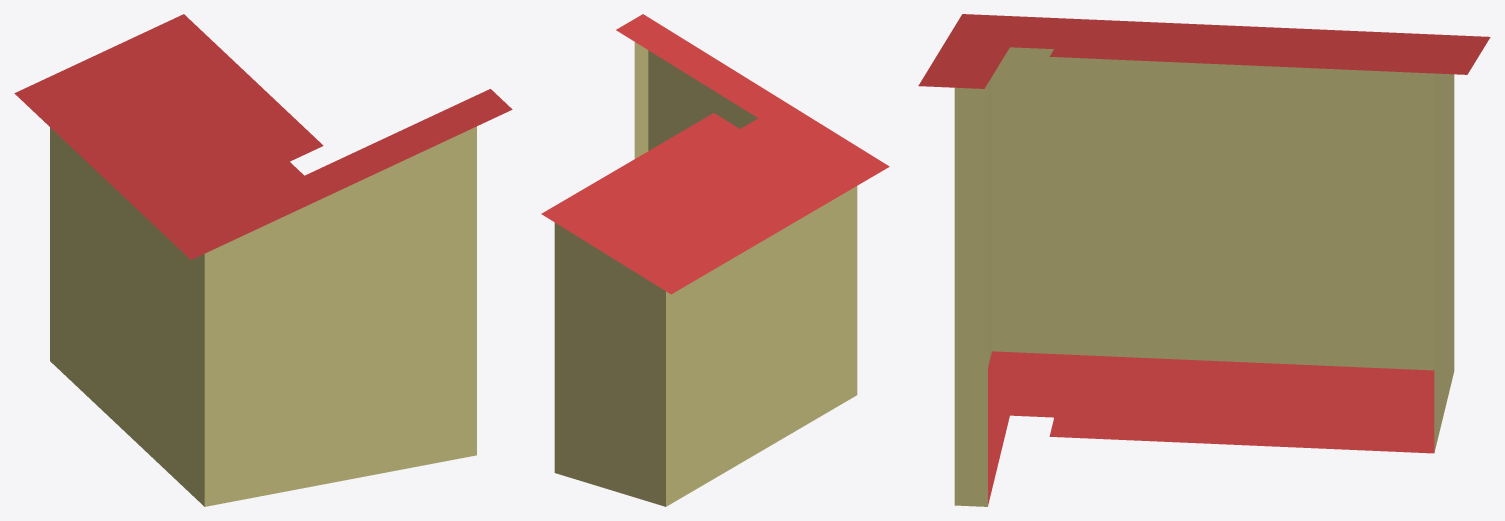
The picture shows the model from 3 angles, left to right: view 1: azimuth 30°, elevation 25°; view 2: azimuth 150°, elevation 25°; view 3: azimuth 270°, elevation 25°; orthographic projection. The views are drawn at different scales.
Bounding box in the file's own units: 6.58 × 8.61 × 7.17.
